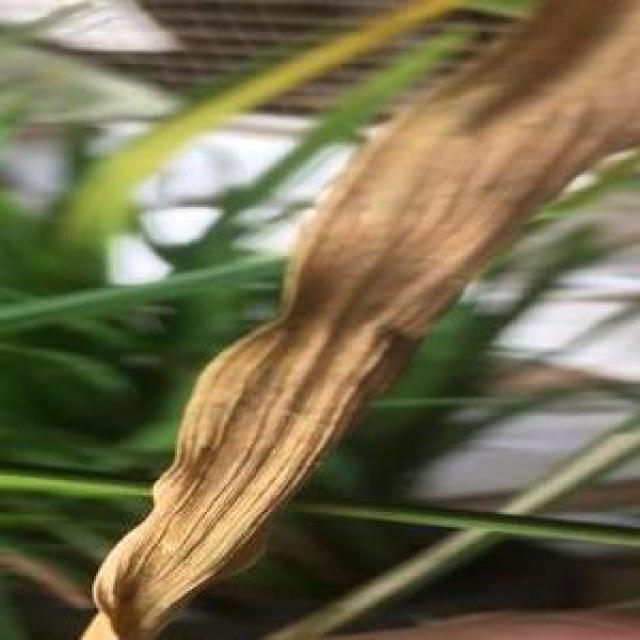Bacterial_Blight: (111, 36, 580, 555)
